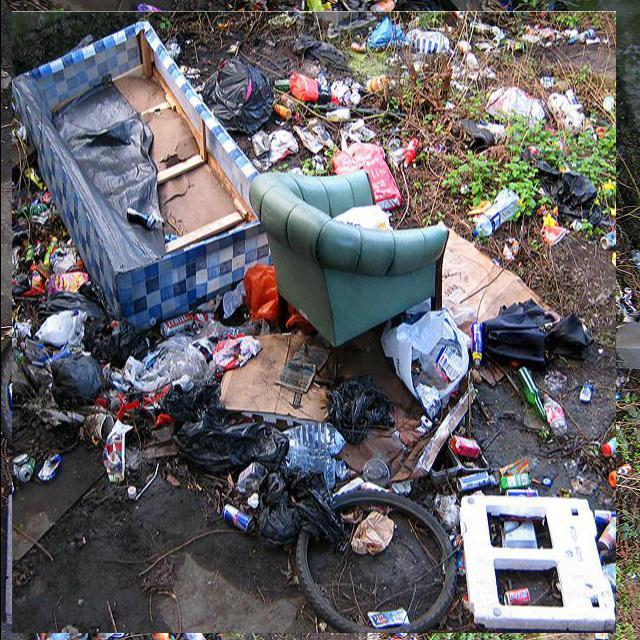Trashbag: (246, 464, 354, 546), (174, 403, 288, 473), (473, 302, 596, 366), (195, 61, 278, 137), (329, 378, 395, 441), (50, 342, 105, 414)
